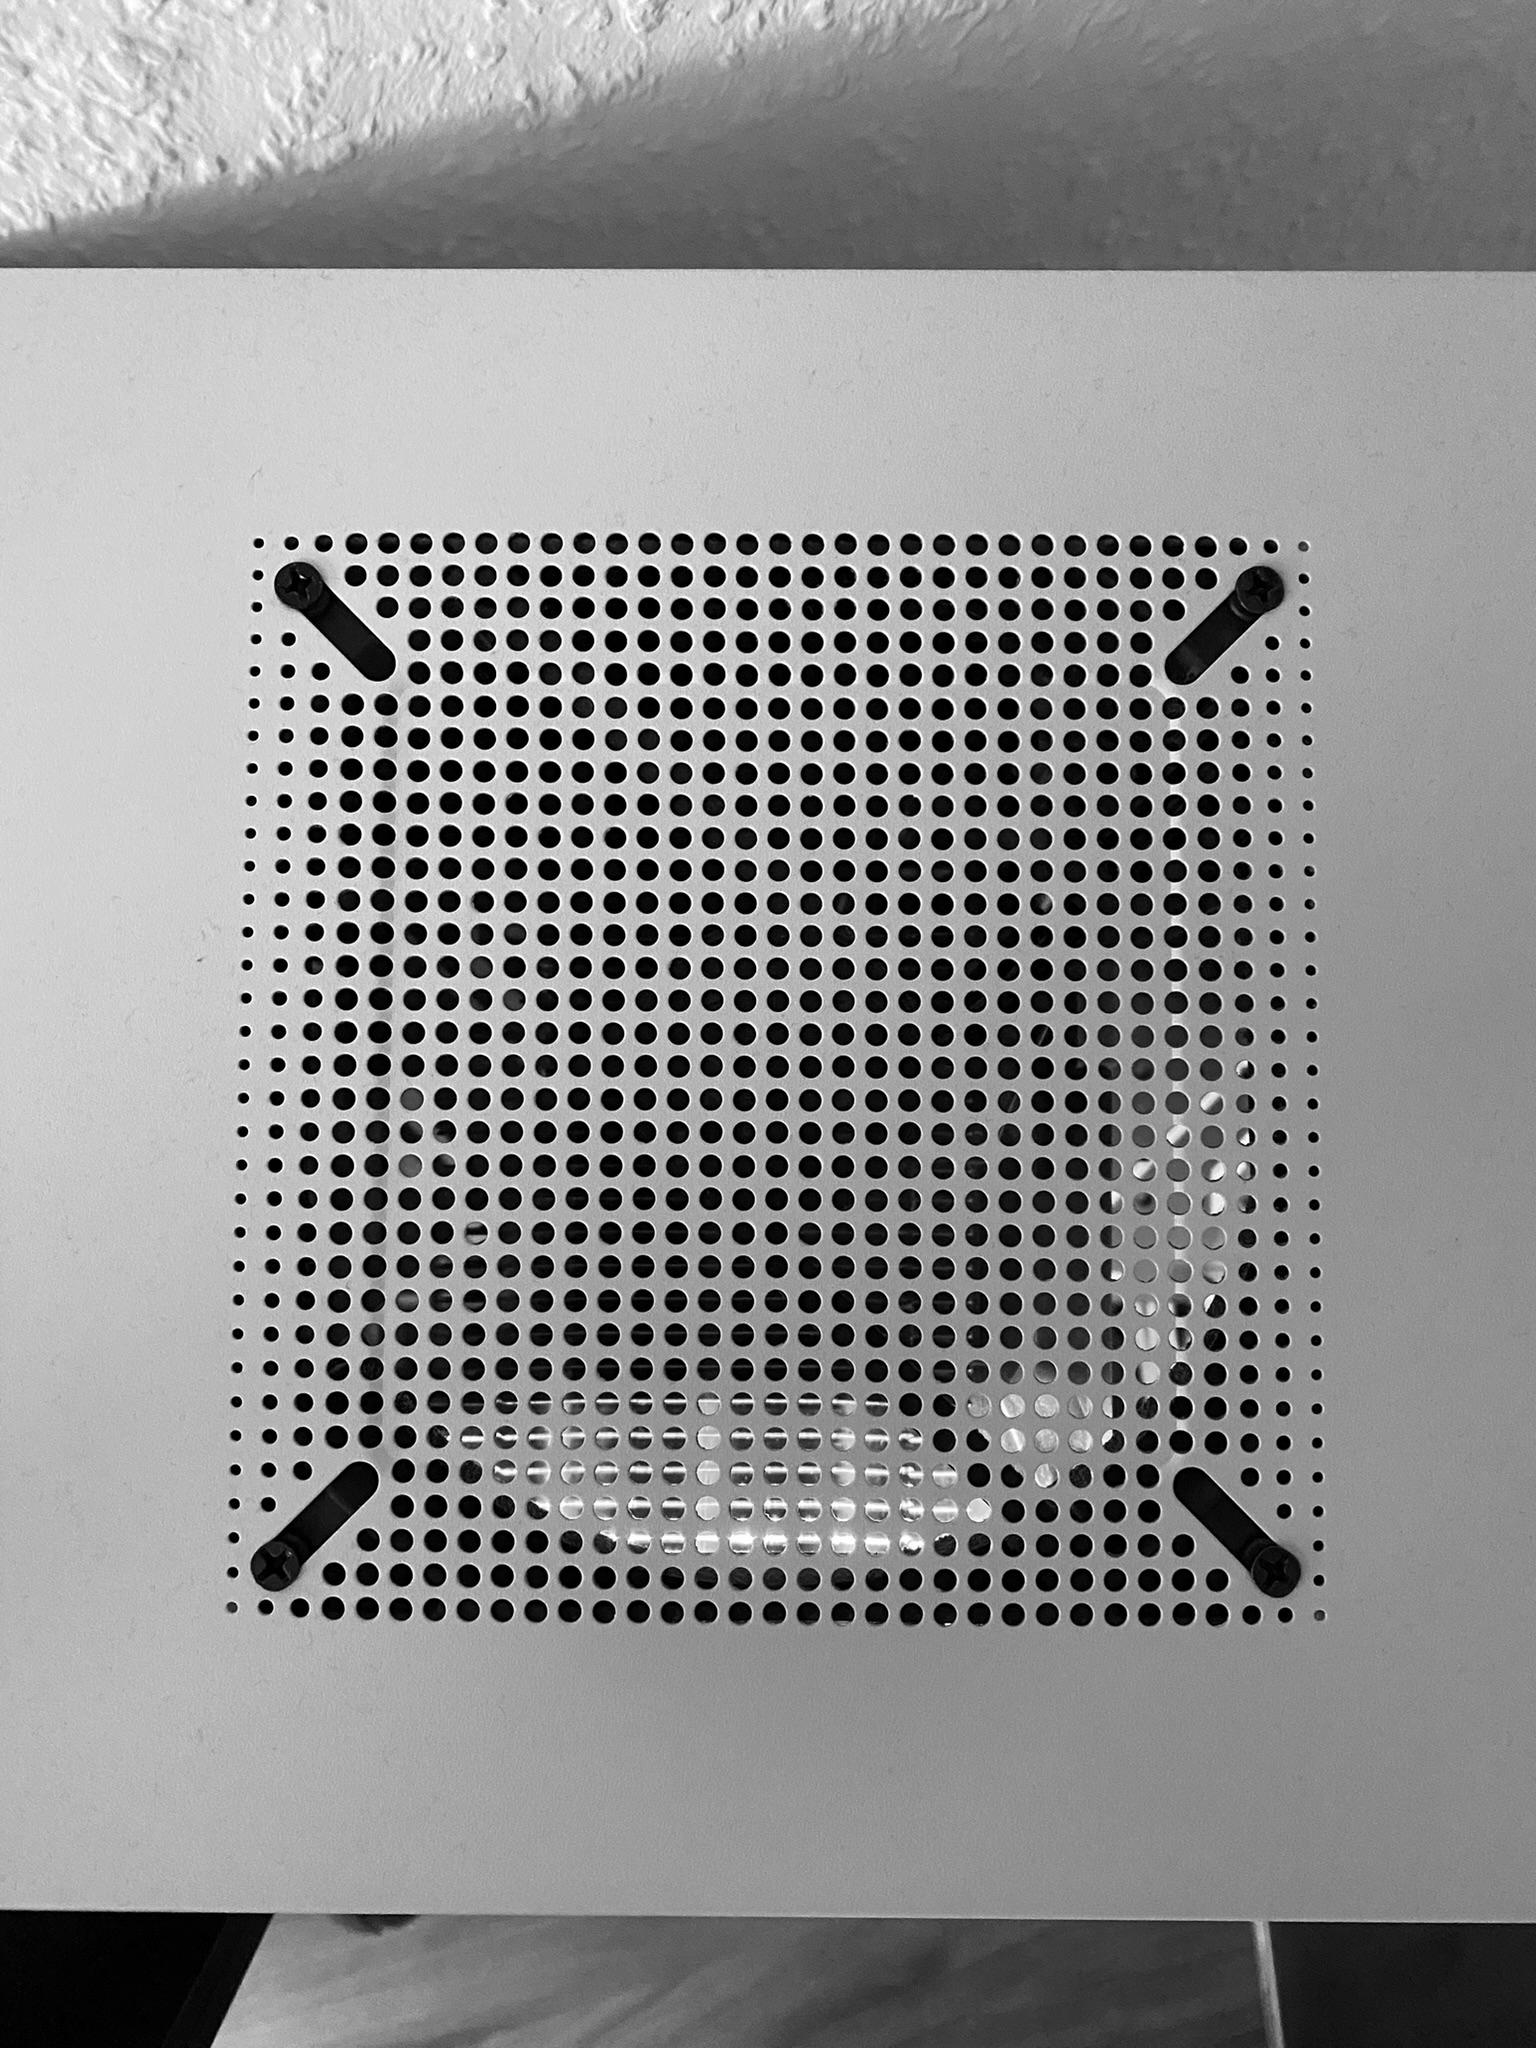screw: (269, 556, 326, 613), (1233, 563, 1292, 616), (245, 1540, 303, 1593), (1250, 1540, 1302, 1600)
